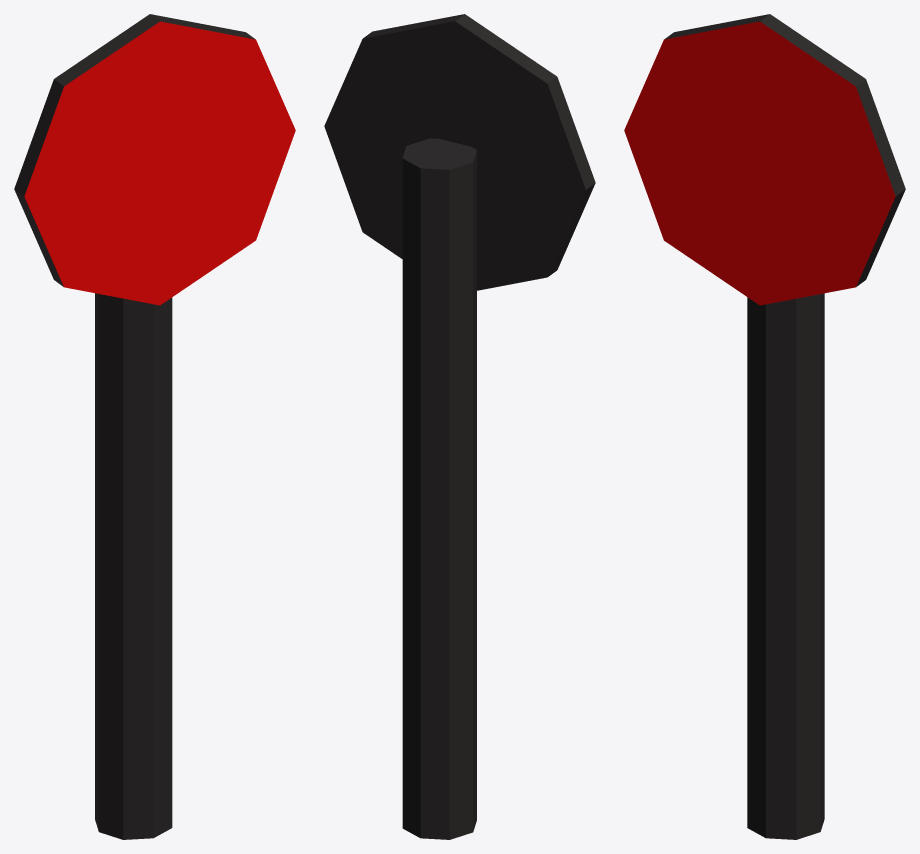
Rendered from placa_pare.fbx.
3 views of the same model, side by side, from view 1: azimuth 30°, elevation 25°; view 2: azimuth 150°, elevation 25°; view 3: azimuth 330°, elevation 25° (orthographic). The views are drawn at different scales.
Visible parts, largest first — view 1: placa_pare; view 2: placa_pare; view 3: placa_pare.
Part boxes in pixels (x1,y1,x2,y2): placa_pare: [14, 14, 295, 839]; placa_pare: [324, 14, 595, 839]; placa_pare: [624, 14, 905, 839].
Bounding box in the file's own units: 56.03 × 162 × 16.55.
